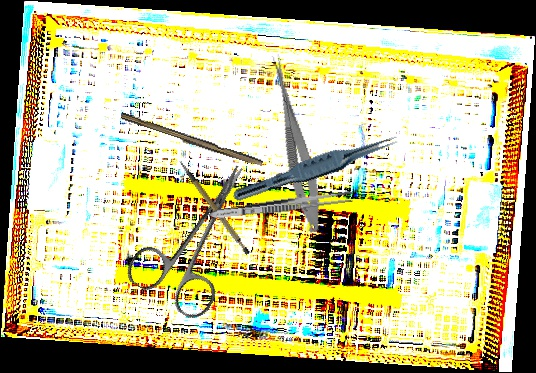Dressing Forceps: (208, 188, 354, 223)
Iris Scissors: (121, 144, 282, 325)
Micro Scissor: (260, 52, 329, 235)
Scalpel Handle: (118, 112, 265, 169), (178, 151, 252, 263)
Tissue Forceps: (231, 125, 401, 212)
